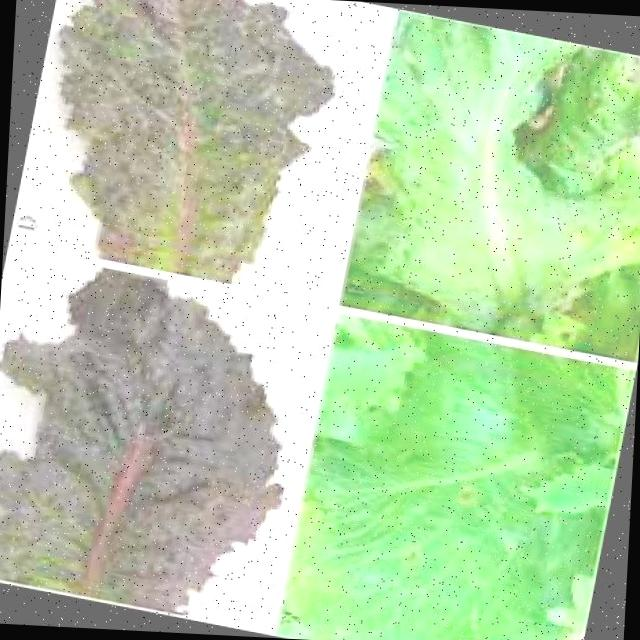Powdery_mildew_on_lettuce: (370, 30, 605, 313), (362, 347, 585, 640), (26, 310, 236, 606), (88, 0, 285, 278)
